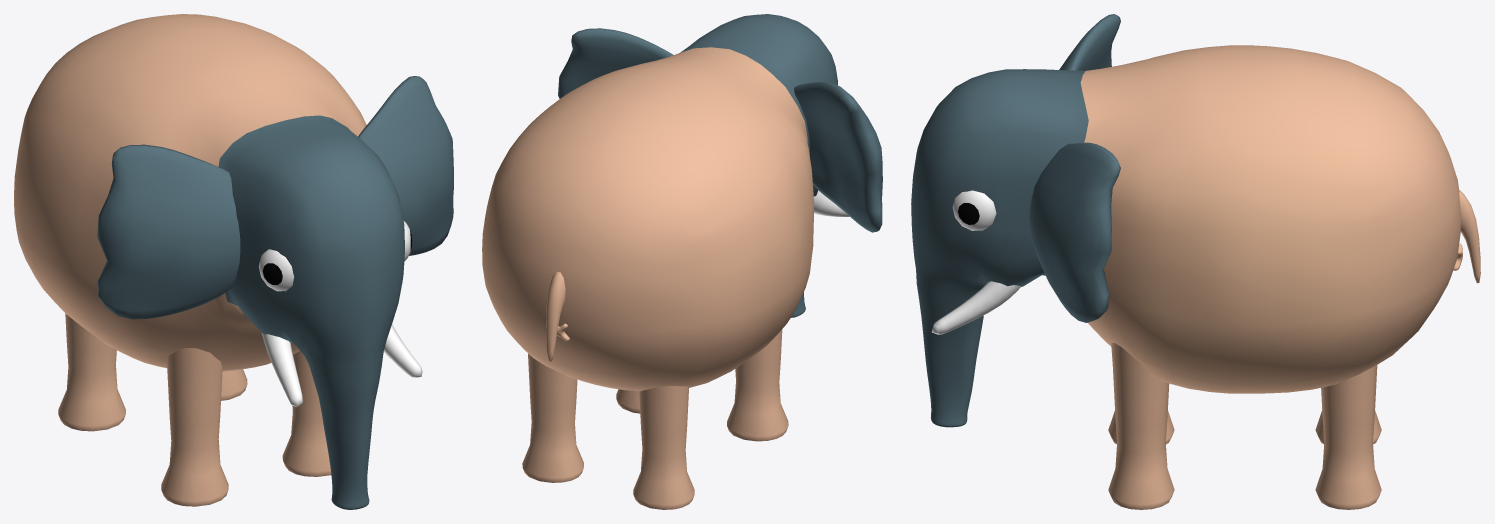
Rendered from Voinaked.fbx.
3 renders of one model, left to right at view 1: azimuth 30°, elevation 25°; view 2: azimuth 150°, elevation 25°; view 3: azimuth 270°, elevation 25°, orthographic. The views are drawn at different scales.
Parts seen in each view (by area): view 1: voinaked; view 2: voinaked; view 3: voinaked.
Part boxes in pixels (x1,y1,x2,y2): voinaked: (14, 14, 453, 509); voinaked: (482, 14, 882, 509); voinaked: (911, 14, 1480, 509).
Size of the model in its own units: 285 by 306 by 392.
